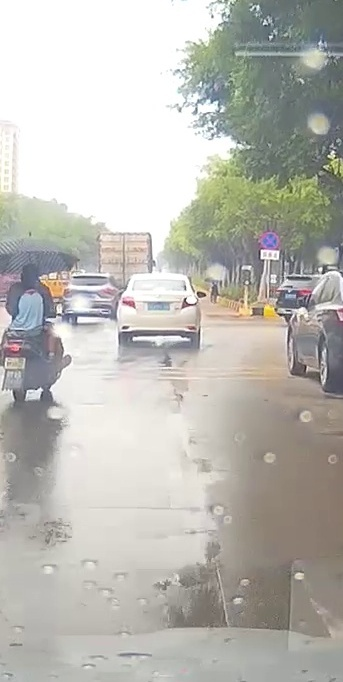L_light: (122, 296, 136, 309), (63, 287, 73, 298)
R_light: (181, 294, 198, 309), (97, 286, 115, 298)
T_light: (153, 280, 165, 282), (84, 276, 93, 277)
day-no: (61, 272, 116, 323)
day-right: (117, 272, 200, 347)
